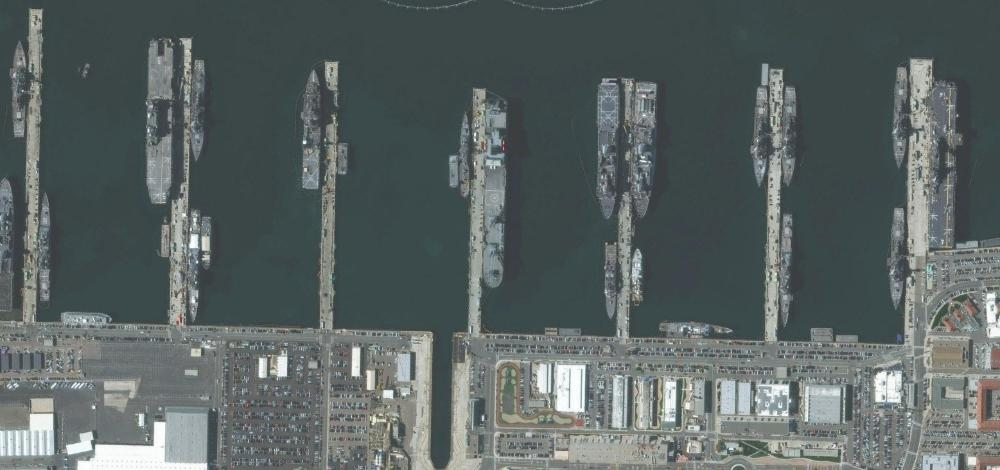amphiby: (632, 79, 666, 221), (595, 77, 622, 224), (301, 66, 322, 192)
destroyer: (185, 208, 203, 325), (780, 210, 795, 330), (38, 192, 52, 301), (459, 111, 474, 199)
fregate: (8, 39, 35, 138), (887, 204, 910, 313), (751, 82, 773, 189), (782, 82, 802, 191), (893, 63, 912, 172), (192, 54, 210, 165), (604, 239, 618, 322)
pha: (145, 35, 179, 208), (928, 77, 959, 253)
supply: (482, 102, 509, 294)
